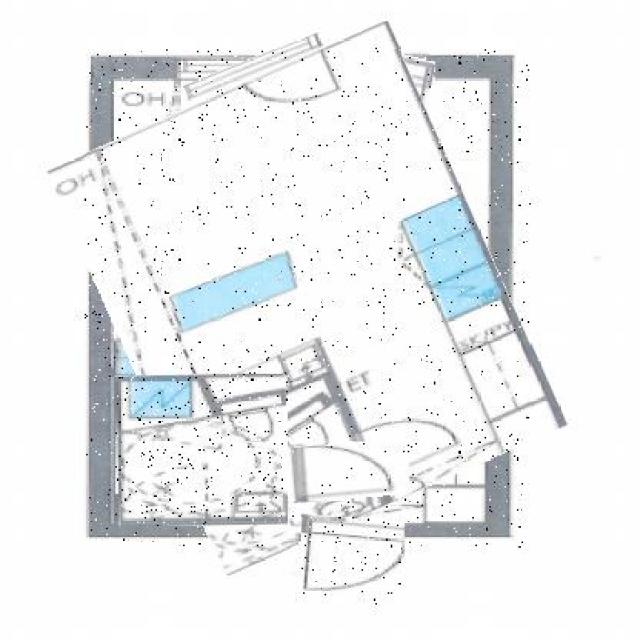door: (297, 517, 405, 605), (332, 48, 434, 129), (285, 440, 409, 502)
window: (185, 46, 326, 89)
zone: (86, 49, 532, 548), (117, 376, 288, 526)
